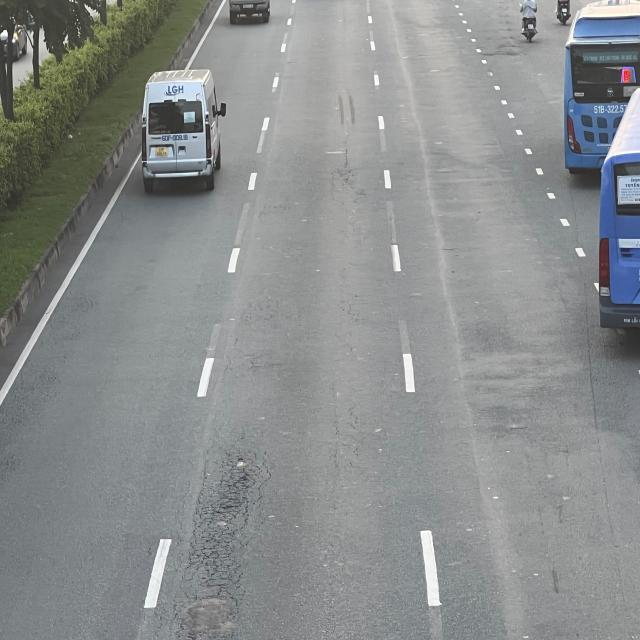coach: (566, 0, 640, 174), (598, 90, 636, 338)
van: (144, 70, 229, 190)
